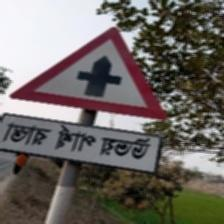Crossroad: (4, 27, 166, 173)
